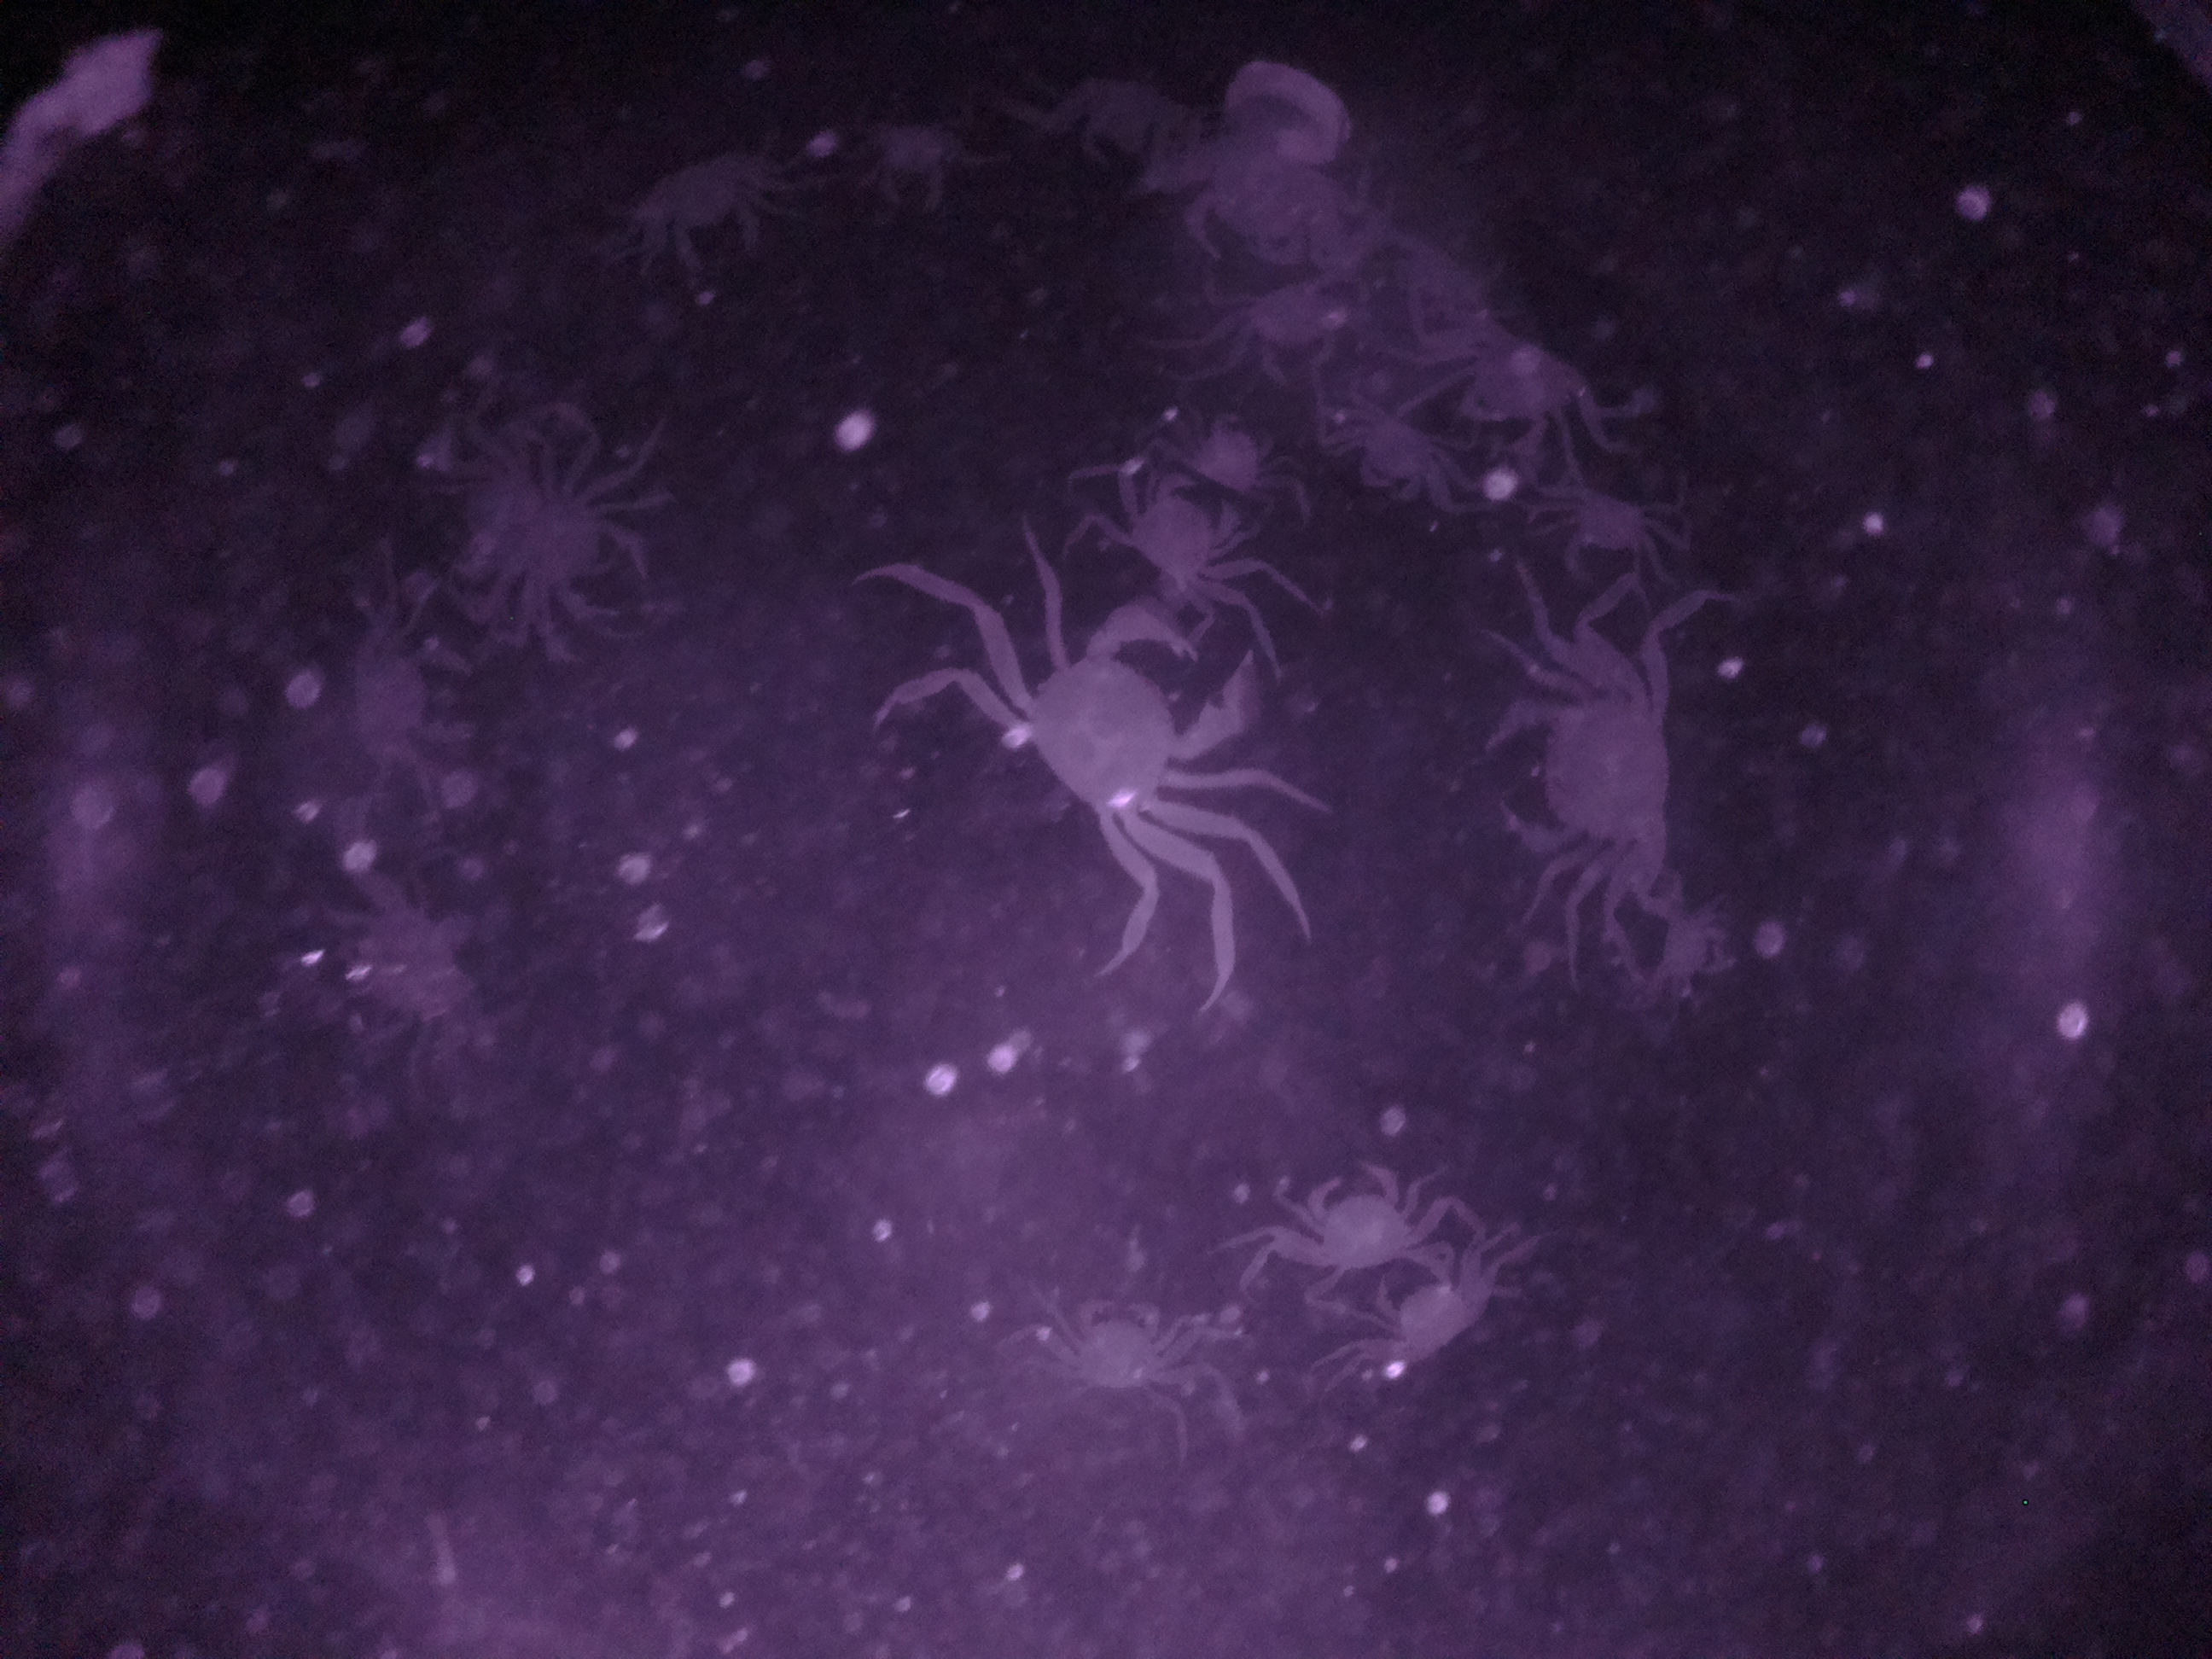Crab: (981, 612, 1259, 873), (1493, 641, 1677, 896), (1442, 307, 1608, 465), (1096, 448, 1254, 608), (1217, 256, 1383, 392), (1529, 471, 1703, 592), (1040, 1288, 1200, 1417), (1280, 1152, 1428, 1290), (1369, 1239, 1493, 1384)
